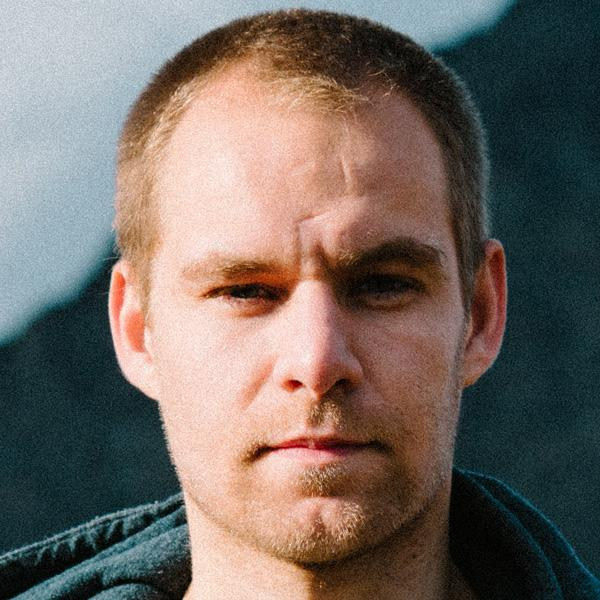Eyes: (344, 262, 428, 318), (196, 276, 287, 320)
